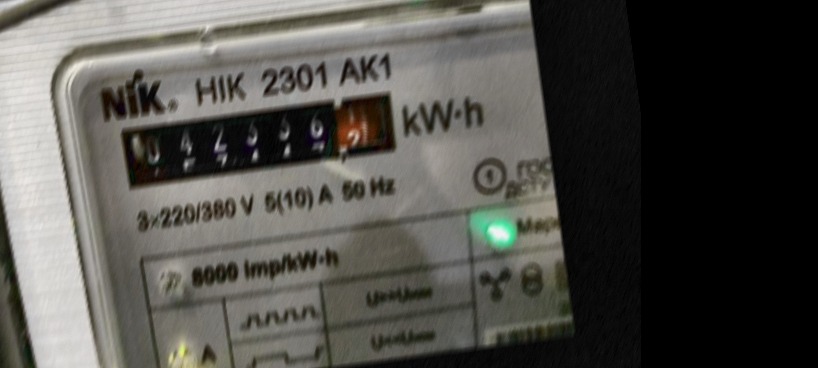0: (141, 134, 161, 164)
1: (342, 102, 356, 125)
2: (208, 121, 228, 152), (343, 127, 361, 147)
3: (271, 110, 291, 141), (240, 116, 258, 146)
4: (174, 125, 195, 156)
6: (305, 107, 326, 139)
screen: (106, 78, 411, 198)
